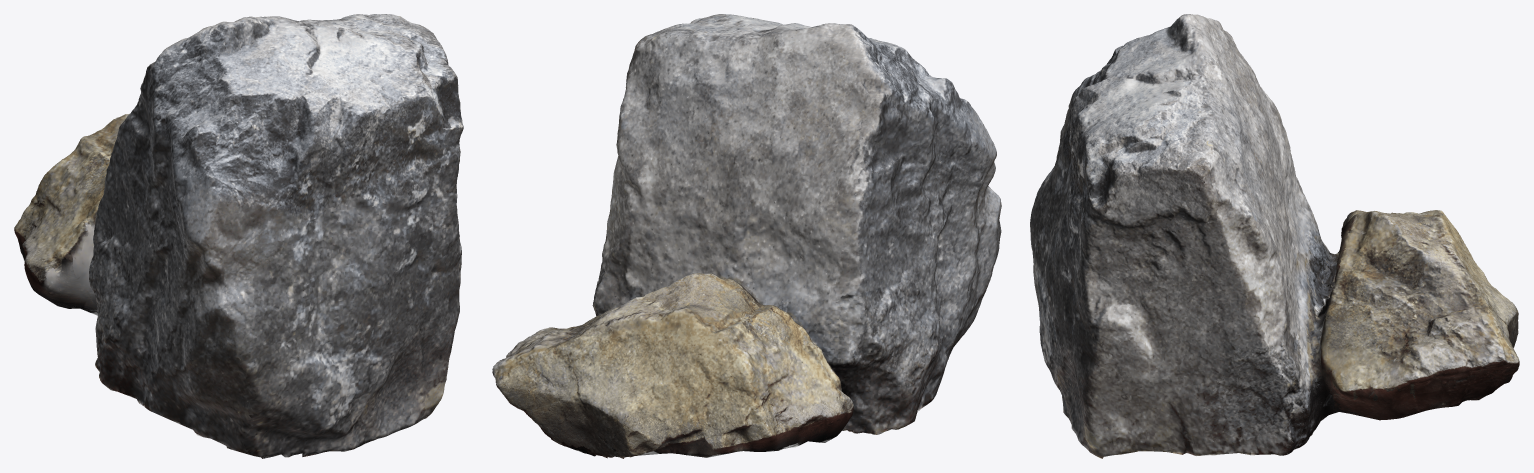
The model's file is sparse2.glb.
3 renders of one model, left to right at view 1: azimuth 30°, elevation 25°; view 2: azimuth 150°, elevation 25°; view 3: azimuth 270°, elevation 25°, orthographic. The views are drawn at different scales.
Visible parts, largest first — view 1: Node; view 2: Node; view 3: Node.
Boxes of the visible parts, <box> form: Node: <box>14,14,463,458</box>; Node: <box>492,14,1001,458</box>; Node: <box>1030,14,1519,458</box>.
Size of the model in its own units: 2.54 by 3.05 by 3.66.
1 material, 1 textured.
